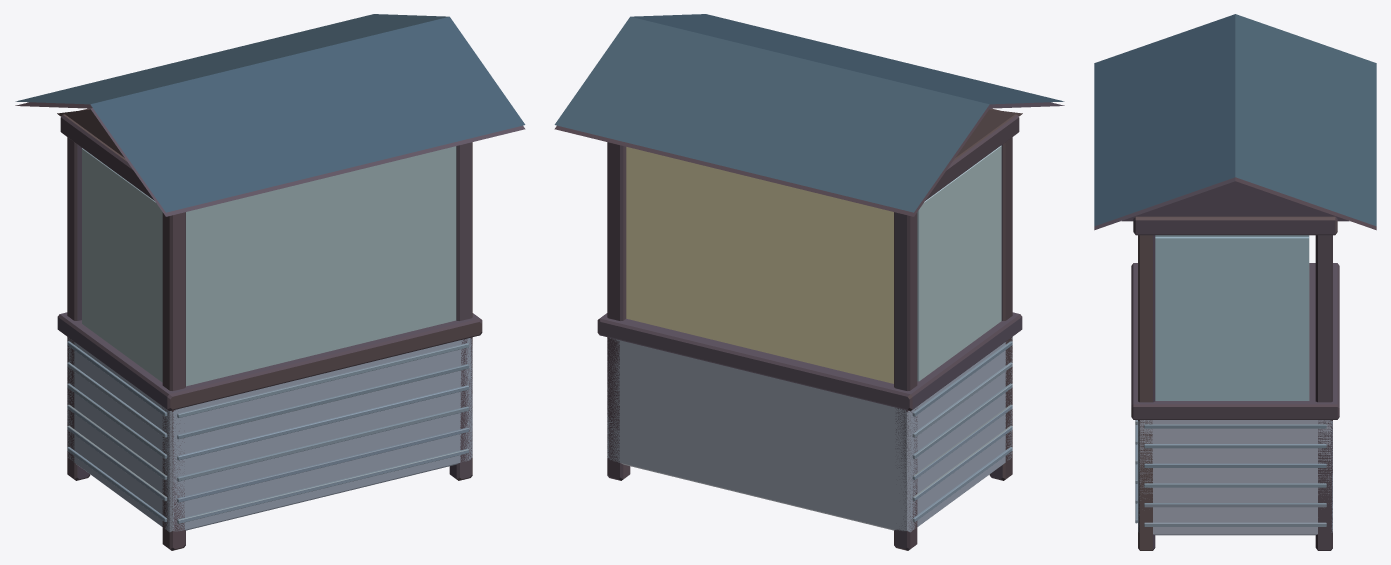
Rendered from ART_DisplayKiosk.glb.
3 views of the same model, side by side, from view 1: azimuth 30°, elevation 25°; view 2: azimuth 150°, elevation 25°; view 3: azimuth 270°, elevation 25° (orthographic). The views are drawn at different scales.
Parts seen in each view (by area): view 1: ART_DisplayKiosk; view 2: ART_DisplayKiosk; view 3: ART_DisplayKiosk.
Boxes of the visible parts, x1=… form: ART_DisplayKiosk: x1=15, y1=14, x2=525, y2=550; ART_DisplayKiosk: x1=554, y1=14, x2=1064, y2=550; ART_DisplayKiosk: x1=1094, y1=14, x2=1376, y2=550.
Size of the model in its own units: 1.78 by 1.97 by 1.3.
